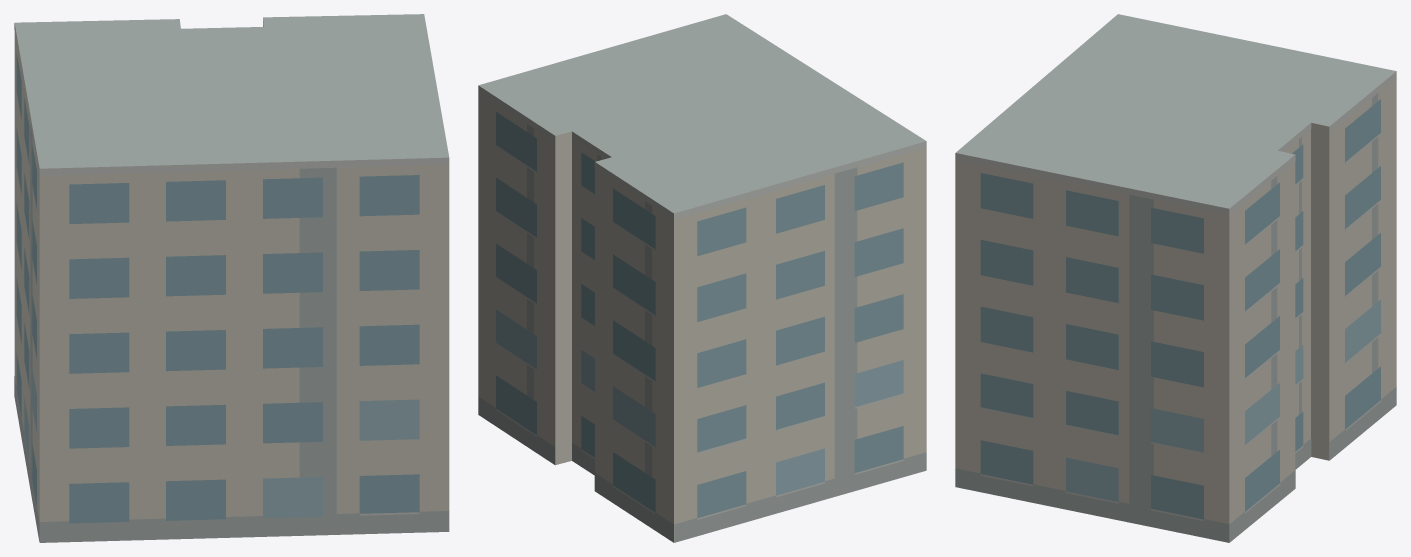
Rendered from survey-upis-32531331.glb.
3 renders of one model, left to right at view 1: azimuth 30°, elevation 25°; view 2: azimuth 150°, elevation 25°; view 3: azimuth 270°, elevation 25°, orthographic. The views are drawn at different scales.
Visible parts, largest first — view 1: survey-upis-32531331.tmp; view 2: survey-upis-32531331.tmp; view 3: survey-upis-32531331.tmp.
Boxes of the visible parts, box(x1,y1,x2,y2) form: survey-upis-32531331.tmp: box(14, 14, 449, 542); survey-upis-32531331.tmp: box(478, 14, 926, 542); survey-upis-32531331.tmp: box(955, 14, 1396, 542).
Size of the model in its own units: 16.07 by 12.85 by 15.39.
